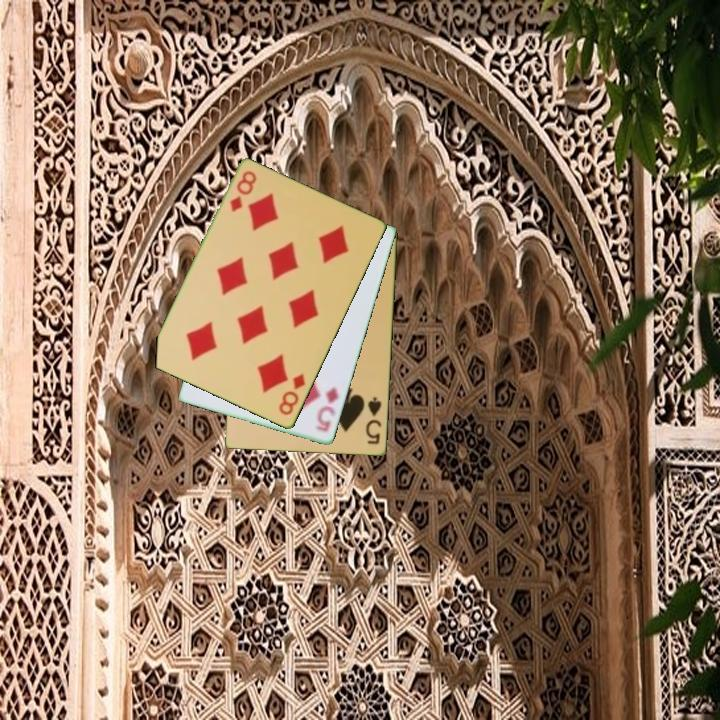5d: (312, 384, 341, 435)
5s: (362, 394, 385, 447)
8d: (226, 167, 260, 215), (275, 370, 308, 418)
